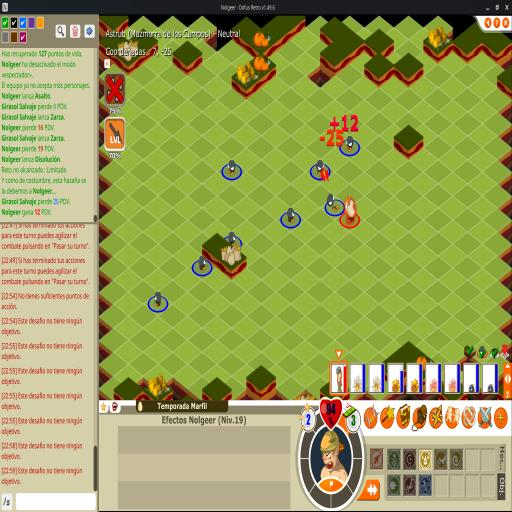Enemigos: (326, 192, 340, 212), (226, 158, 237, 176), (344, 134, 354, 152), (316, 159, 326, 176), (198, 254, 208, 271), (287, 206, 296, 224), (153, 291, 163, 307), (228, 231, 237, 248)
Personaje: (344, 196, 356, 224)
